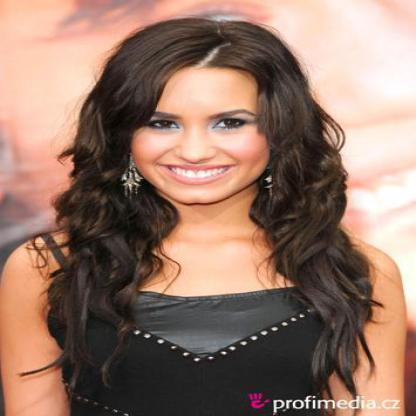long-hair: (44, 204, 374, 271)
